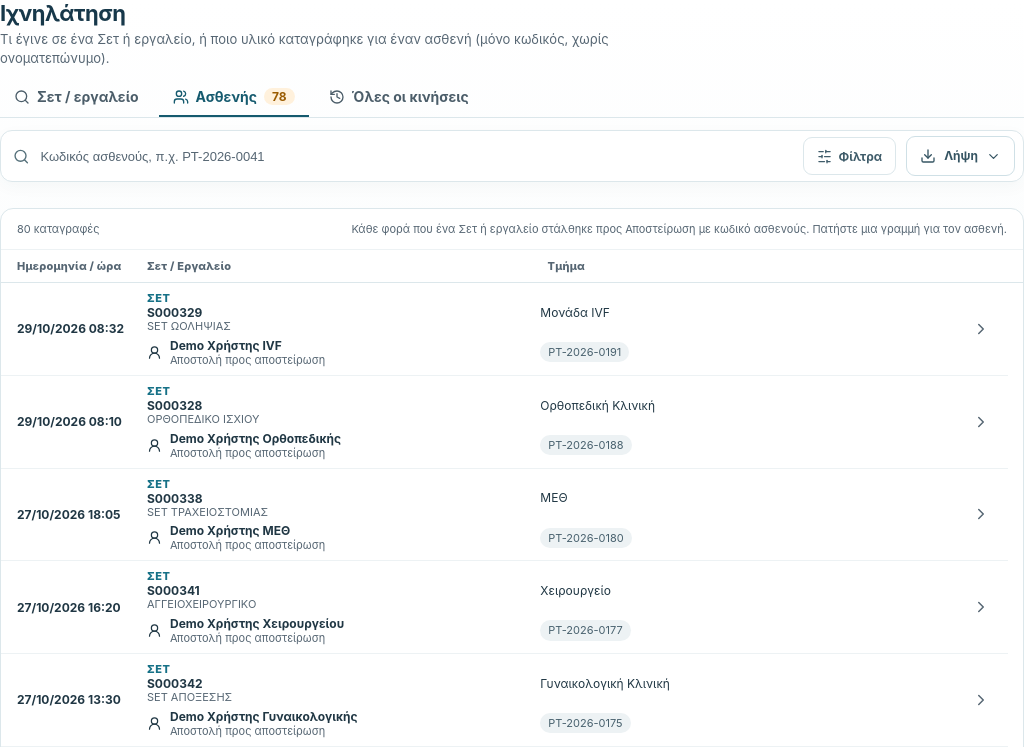
it: TraceabilityPage › shows nothing for an unknown patient code
Type "NOBODY-0000" into the field with placeholder "Κωδικός ασθενούς, π.χ. PT-2026-0041".
click(413, 156); type("NOBODY-0000")  # box top-left (38, 137), bottom-right (788, 175)
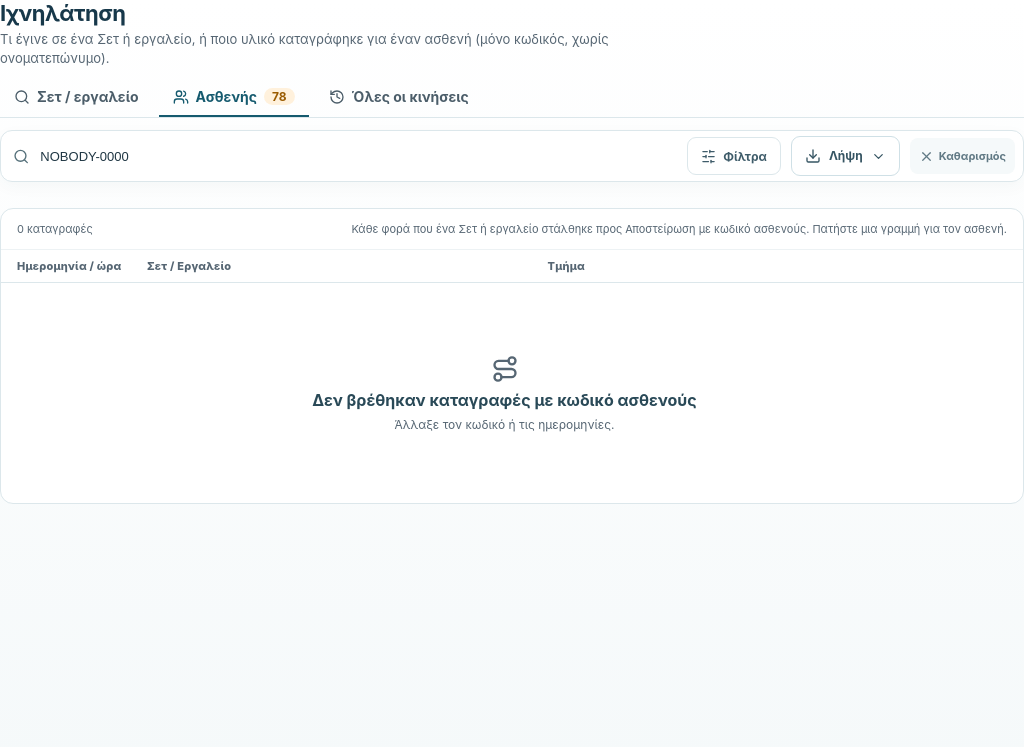
Check: the text "Δεν βρέθηκαν καταγραφές με κωδικό ασθενούς" is shown, box top-left (312, 390), bottom-right (697, 410)
